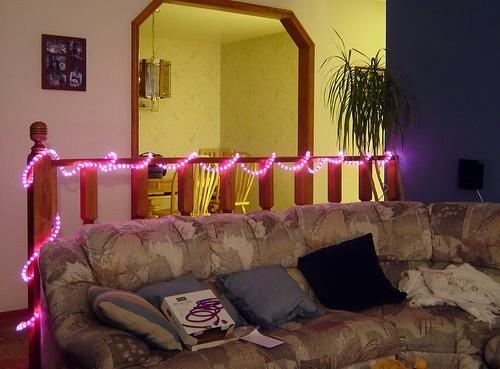chair: (154, 154, 221, 220), (235, 150, 256, 214)
pottedplant: (325, 29, 423, 155)
sofa: (40, 200, 500, 369)
